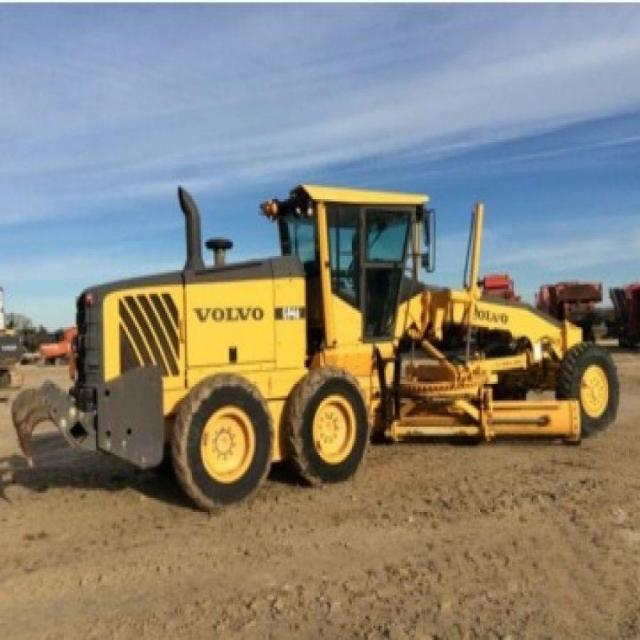Grader: (61, 164, 635, 518)
